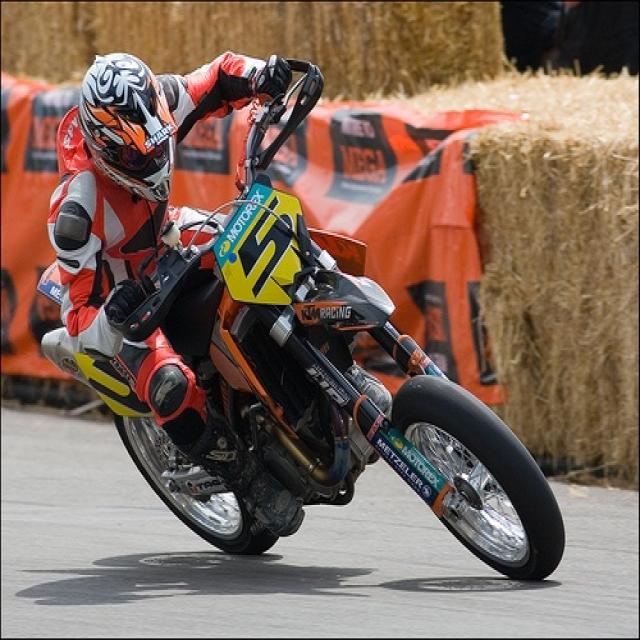motorbike: (45, 67, 566, 583)
